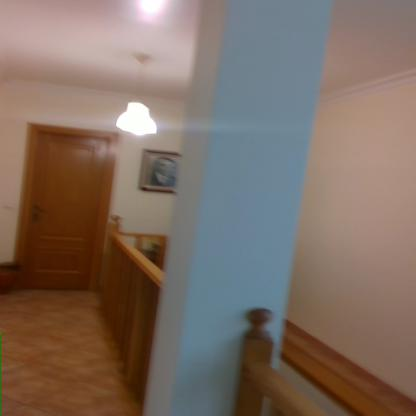closed: (13, 115, 122, 296)
